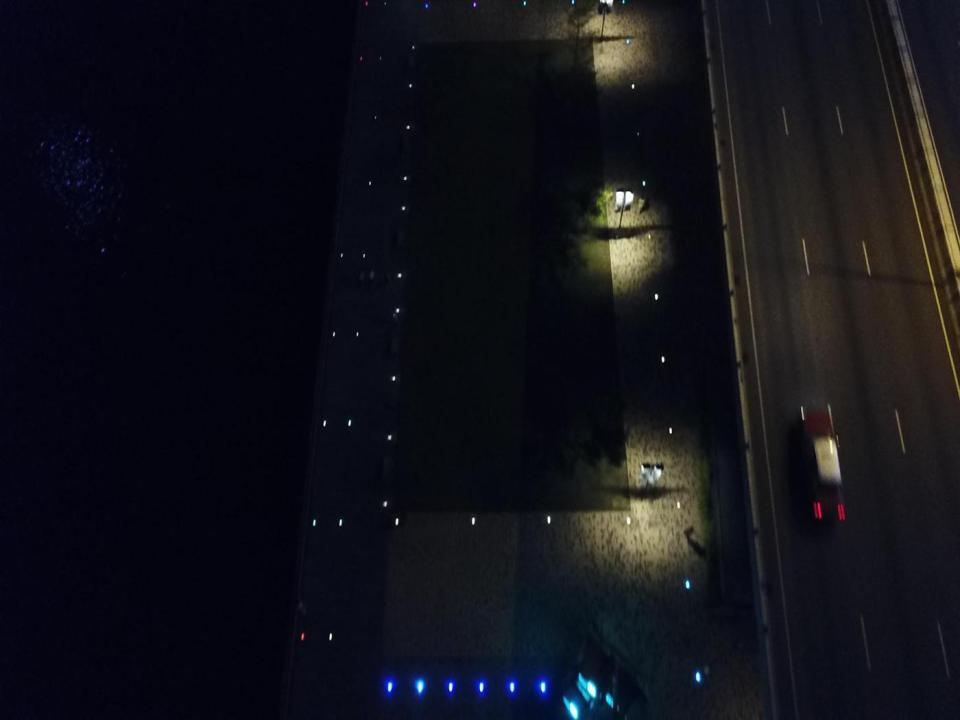car: (799, 406, 845, 524)
